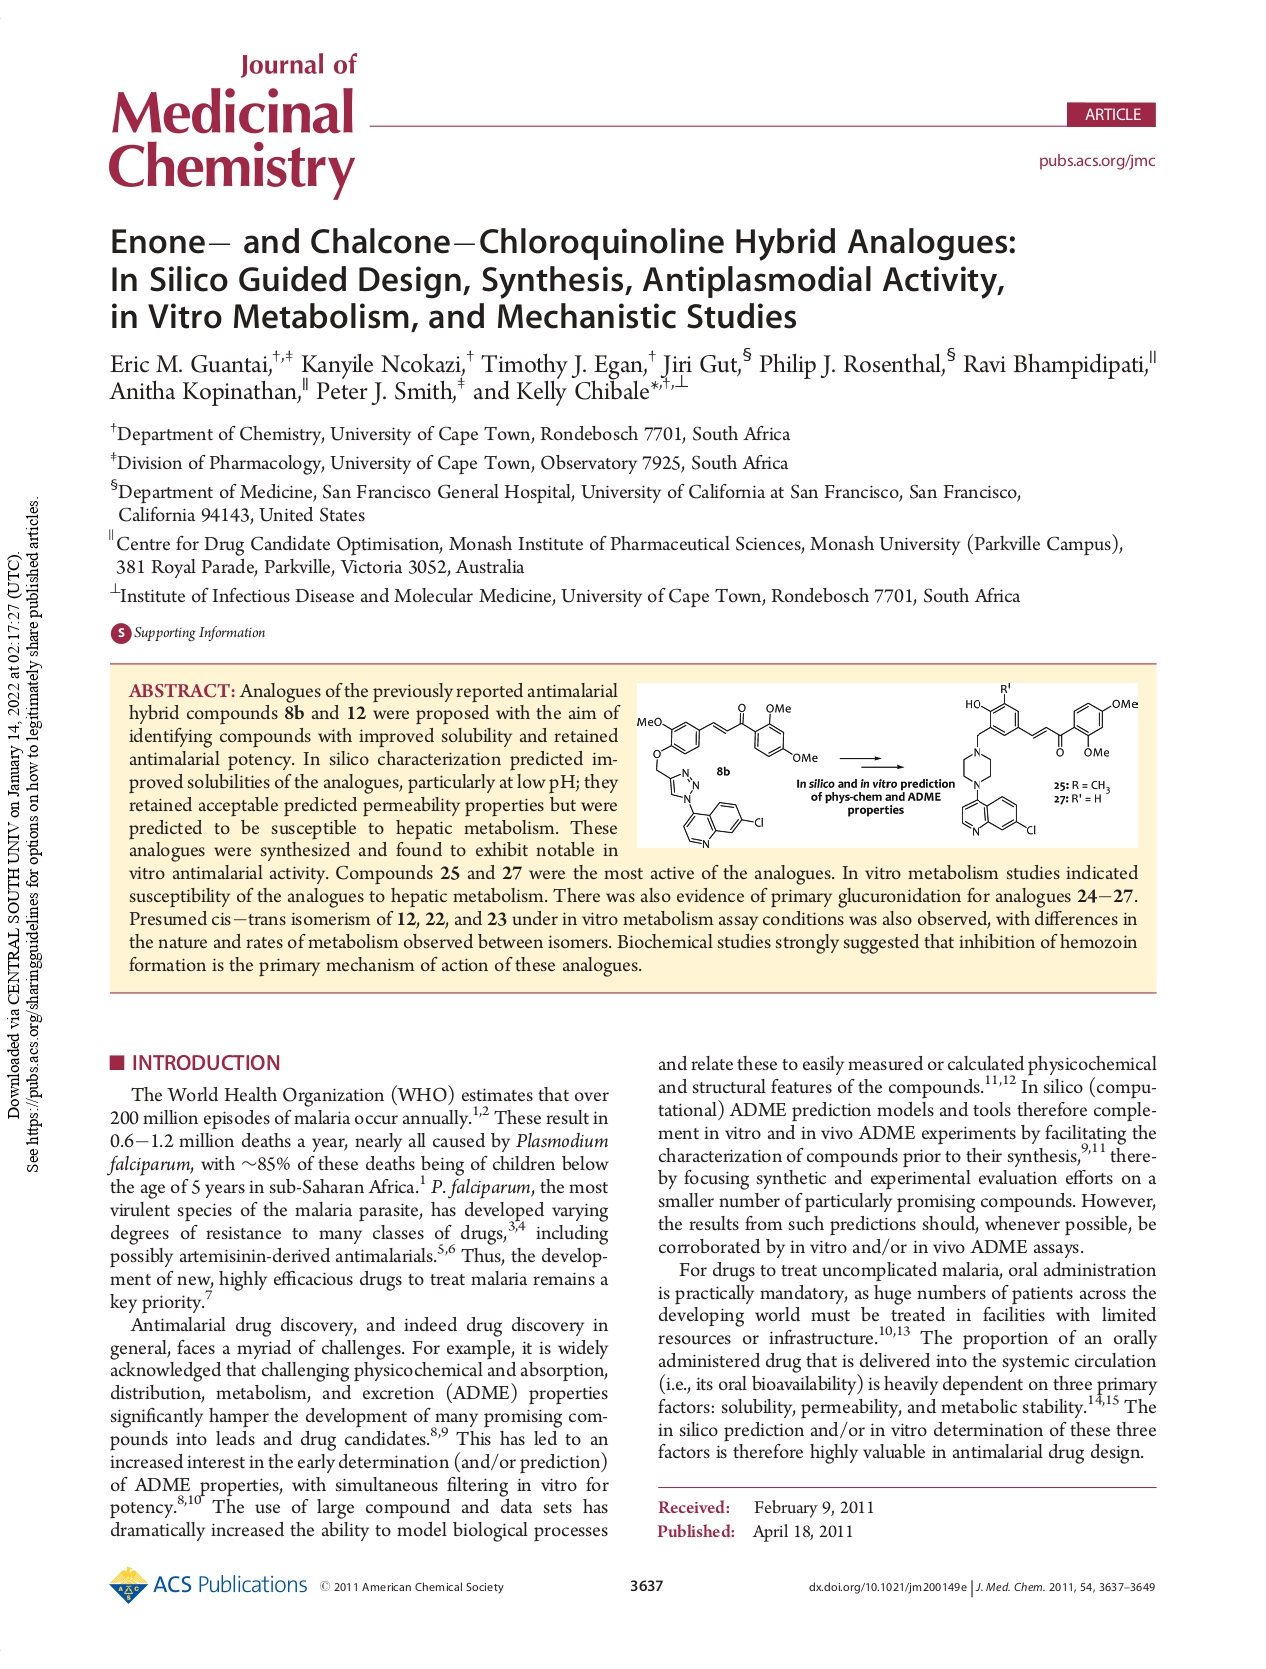exist_molecular: (959, 680, 1138, 839), (636, 700, 821, 852)
